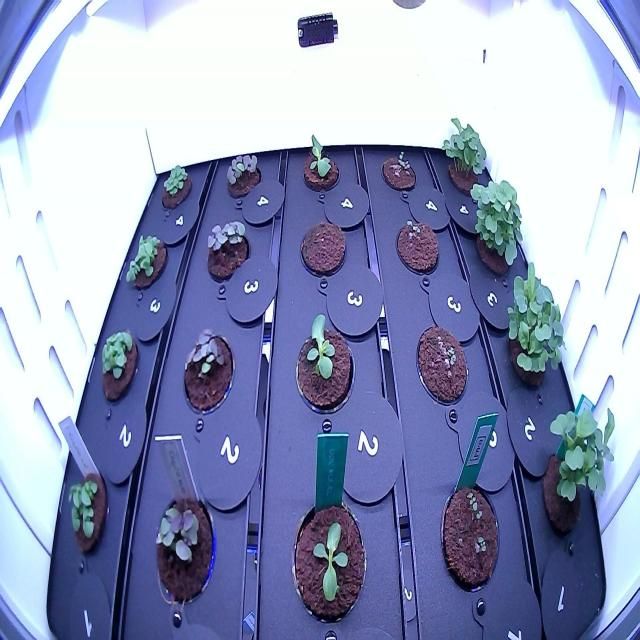germination: (434, 472, 506, 607), (147, 487, 220, 614), (410, 316, 472, 416), (178, 324, 239, 422), (60, 464, 115, 562), (440, 110, 495, 198), (388, 210, 444, 286), (202, 212, 255, 291), (94, 326, 143, 409), (123, 221, 170, 300), (375, 143, 421, 198), (220, 148, 264, 203), (158, 158, 195, 218)
pod: (291, 213, 351, 286)
young: (285, 483, 370, 633), (289, 304, 361, 430), (295, 131, 344, 198)
